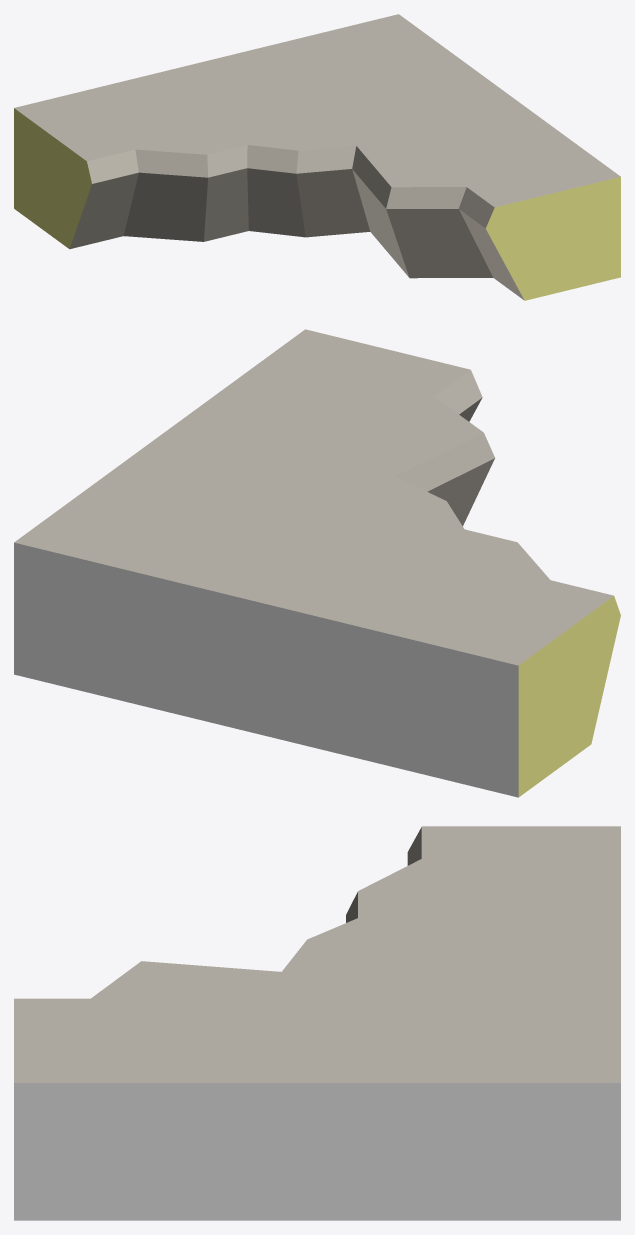
Rendered from Cracked_Curve_Inner_4x4_2_Top.glb.
3 renders of one model, top to bottom at view 1: azimuth 30°, elevation 25°; view 2: azimuth 150°, elevation 25°; view 3: azimuth 270°, elevation 25°, orthographic. The views are drawn at different scales.
Parts seen in each view (by area): view 1: Cracked_Curve_Inner_4x4_2_Top; view 2: Cracked_Curve_Inner_4x4_2_Top; view 3: Cracked_Curve_Inner_4x4_2_Top.
Part boxes in pixels (bbox=[...]): Cracked_Curve_Inner_4x4_2_Top: bbox=[14, 14, 620, 300]; Cracked_Curve_Inner_4x4_2_Top: bbox=[14, 329, 620, 797]; Cracked_Curve_Inner_4x4_2_Top: bbox=[14, 826, 620, 1220].
Bounding box in the file's own units: 400 × 100 × 400.
